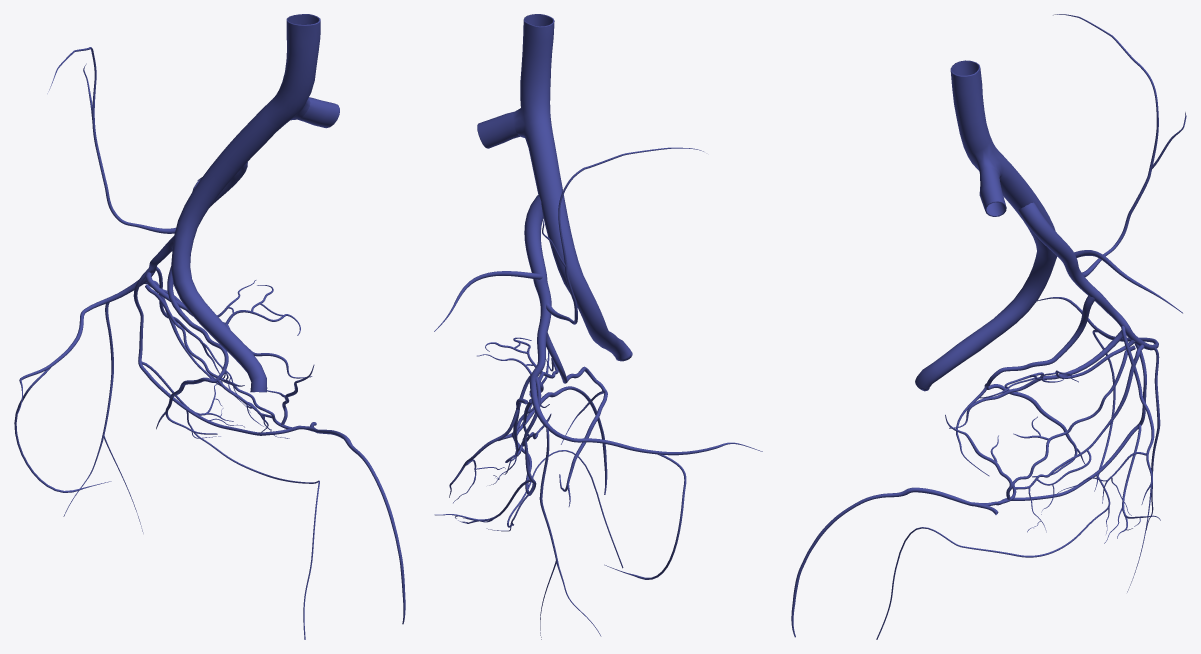
The model's file is open3d-pelvicfloor-venous-01.glb.
3 renders of one model, left to right at view 1: azimuth 30°, elevation 25°; view 2: azimuth 150°, elevation 25°; view 3: azimuth 270°, elevation 25°, orthographic. The views are drawn at different scales.
Parts seen in each view (by area): view 1: O3D_22d799152206cd, O3D_59b1714b5077e1, O3D_396cb9ac50ab6a, O3D_3881de8463e71a, O3D_f5c8e9e6bb3354, O3D_ce78ba0bc4a226, O3D_bb5434c818a818, O3D_030bfe9c5218c7, O3D_f2f861724c00a2, O3D_feba0dc68f03a0, O3D_2c269c9ac219e8, O3D_b6c3b5345e67c2; view 2: O3D_59b1714b5077e1, O3D_22d799152206cd, O3D_3881de8463e71a, O3D_b6c3b5345e67c2, O3D_f5c8e9e6bb3354, O3D_396cb9ac50ab6a, O3D_ce78ba0bc4a226, O3D_030bfe9c5218c7, O3D_feba0dc68f03a0, O3D_f2f861724c00a2, O3D_9ff8fbafd1d3a7, O3D_2c269c9ac219e8 (+2 smaller); view 3: O3D_22d799152206cd, O3D_396cb9ac50ab6a, O3D_59b1714b5077e1, O3D_b6c3b5345e67c2, O3D_ce78ba0bc4a226, O3D_3881de8463e71a, O3D_f2f861724c00a2, O3D_030bfe9c5218c7, O3D_f5c8e9e6bb3354, O3D_feba0dc68f03a0, O3D_9ff8fbafd1d3a7, O3D_bb5434c818a818 (+1 smaller).
Boxes of the visible parts, bbox=[...] form: O3D_22d799152206cd: bbox=[171, 153, 267, 392]; O3D_59b1714b5077e1: bbox=[262, 14, 320, 127]; O3D_396cb9ac50ab6a: bbox=[144, 272, 314, 438]; O3D_3881de8463e71a: bbox=[14, 273, 154, 533]; O3D_f5c8e9e6bb3354: bbox=[221, 108, 282, 169]; O3D_ce78ba0bc4a226: bbox=[156, 247, 268, 434]; O3D_bb5434c818a818: bbox=[133, 268, 294, 435]; O3D_030bfe9c5218c7: bbox=[47, 47, 175, 233]; O3D_f2f861724c00a2: bbox=[293, 422, 405, 624]; O3D_feba0dc68f03a0: bbox=[298, 97, 339, 128]; O3D_2c269c9ac219e8: bbox=[186, 411, 319, 639]; O3D_b6c3b5345e67c2: bbox=[149, 162, 247, 273]; O3D_59b1714b5077e1: bbox=[513, 14, 554, 137]; O3D_22d799152206cd: bbox=[541, 197, 632, 361]; O3D_3881de8463e71a: bbox=[529, 381, 762, 639]; O3D_b6c3b5345e67c2: bbox=[524, 195, 551, 381]; O3D_f5c8e9e6bb3354: bbox=[525, 133, 564, 201]; O3D_396cb9ac50ab6a: bbox=[477, 337, 558, 485]; O3D_ce78ba0bc4a226: bbox=[546, 332, 607, 506]; O3D_030bfe9c5218c7: bbox=[541, 147, 703, 324]; O3D_feba0dc68f03a0: bbox=[477, 112, 519, 148]; O3D_f2f861724c00a2: bbox=[498, 386, 607, 494]; O3D_9ff8fbafd1d3a7: bbox=[449, 375, 530, 503]; O3D_2c269c9ac219e8: bbox=[486, 450, 623, 568]; O3D_22d799152206cd: bbox=[915, 196, 1057, 391]; O3D_396cb9ac50ab6a: bbox=[945, 330, 1144, 532]; O3D_59b1714b5077e1: bbox=[950, 60, 1007, 177]; O3D_b6c3b5345e67c2: bbox=[1018, 202, 1130, 332]; O3D_ce78ba0bc4a226: bbox=[956, 296, 1094, 477]; O3D_3881de8463e71a: bbox=[1037, 297, 1160, 592]; O3D_f2f861724c00a2: bbox=[791, 487, 998, 637]; O3D_030bfe9c5218c7: bbox=[1053, 14, 1186, 277]; O3D_f5c8e9e6bb3354: bbox=[999, 160, 1036, 212]; O3D_feba0dc68f03a0: bbox=[979, 167, 1006, 216]; O3D_9ff8fbafd1d3a7: bbox=[1054, 326, 1154, 515]; O3D_bb5434c818a818: bbox=[996, 343, 1146, 505].
Size of the model in its own units: 0.1559 by 0.2826 by 0.1706.
